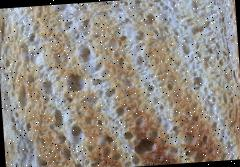organic: (5, 0, 220, 167)
